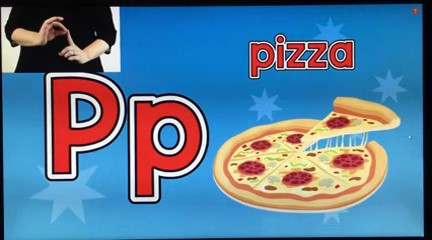P: (35, 11, 93, 68)
